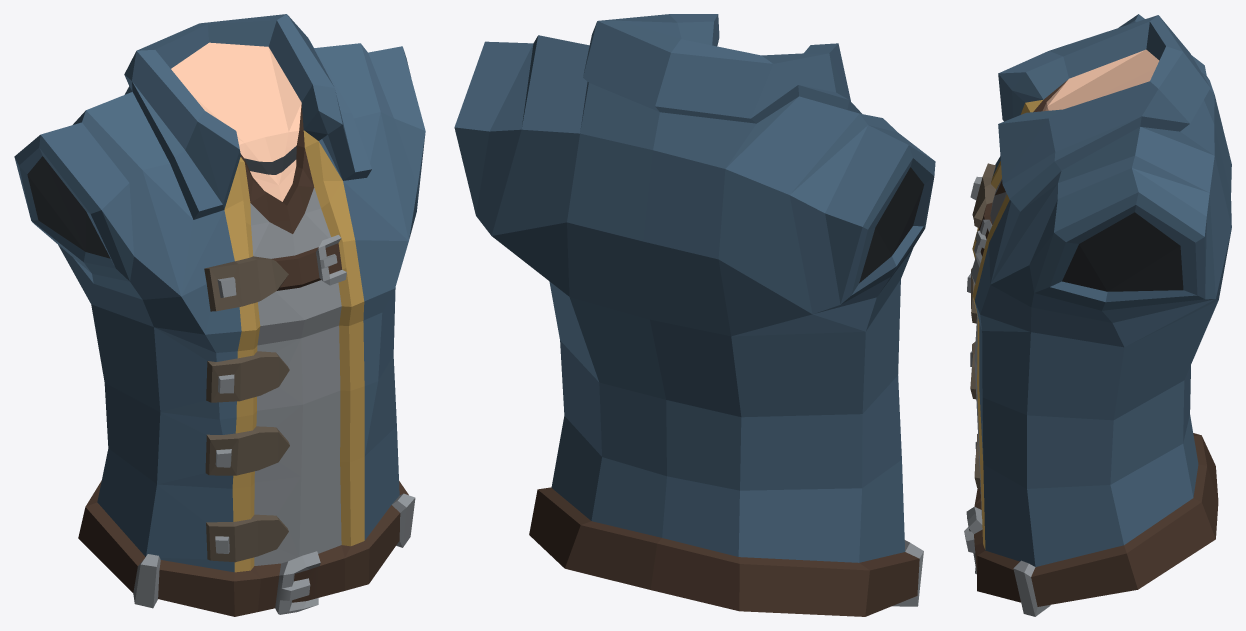
Rendered from Chr_Torso_Male_03_Static.fbx.
3 views of the same model, side by side, from view 1: azimuth 30°, elevation 25°; view 2: azimuth 150°, elevation 25°; view 3: azimuth 270°, elevation 25° (orthographic). The views are drawn at different scales.
Parts seen in each view (by area): view 1: Chr_Torso_Male_03_Static; view 2: Chr_Torso_Male_03_Static; view 3: Chr_Torso_Male_03_Static.
Part boxes in pixels (x1,y1,x2,y2): Chr_Torso_Male_03_Static: [14, 14, 425, 616]; Chr_Torso_Male_03_Static: [454, 14, 935, 616]; Chr_Torso_Male_03_Static: [964, 14, 1231, 616].
Bounding box in the file's own units: 0.502 × 0.6826 × 0.3146.
